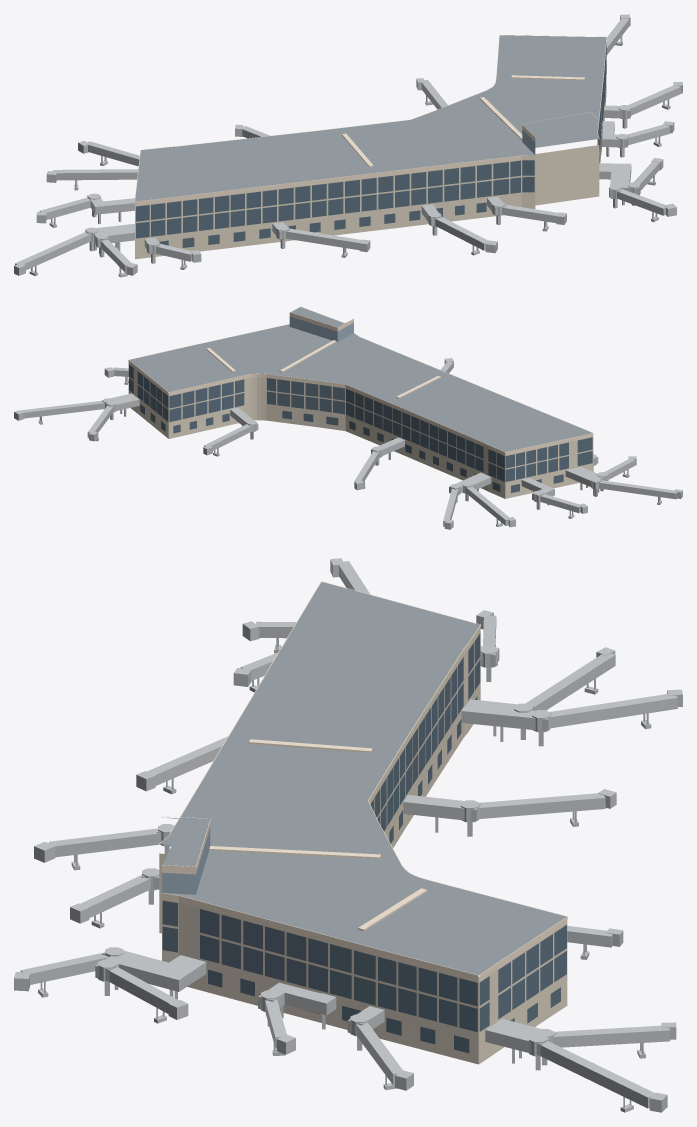
Rendered from nyc-lga-terminal-b-west-concourse.glb.
The picture shows the model from 3 angles, top to bottom: view 1: azimuth 30°, elevation 25°; view 2: azimuth 150°, elevation 25°; view 3: azimuth 270°, elevation 25°; orthographic projection. The views are drawn at different scales.
Parts seen in each view (by area): view 1: LaGuardia Airport Terminal B Western Concourse; view 2: LaGuardia Airport Terminal B Western Concourse; view 3: LaGuardia Airport Terminal B Western Concourse.
Part boxes in pixels (x1,y1,x2,y2): LaGuardia Airport Terminal B Western Concourse: (14,14,682,277); LaGuardia Airport Terminal B Western Concourse: (14,306,682,529); LaGuardia Airport Terminal B Western Concourse: (14,558,682,1112).
Size of the model in its own units: 294 by 29.57 by 153.
